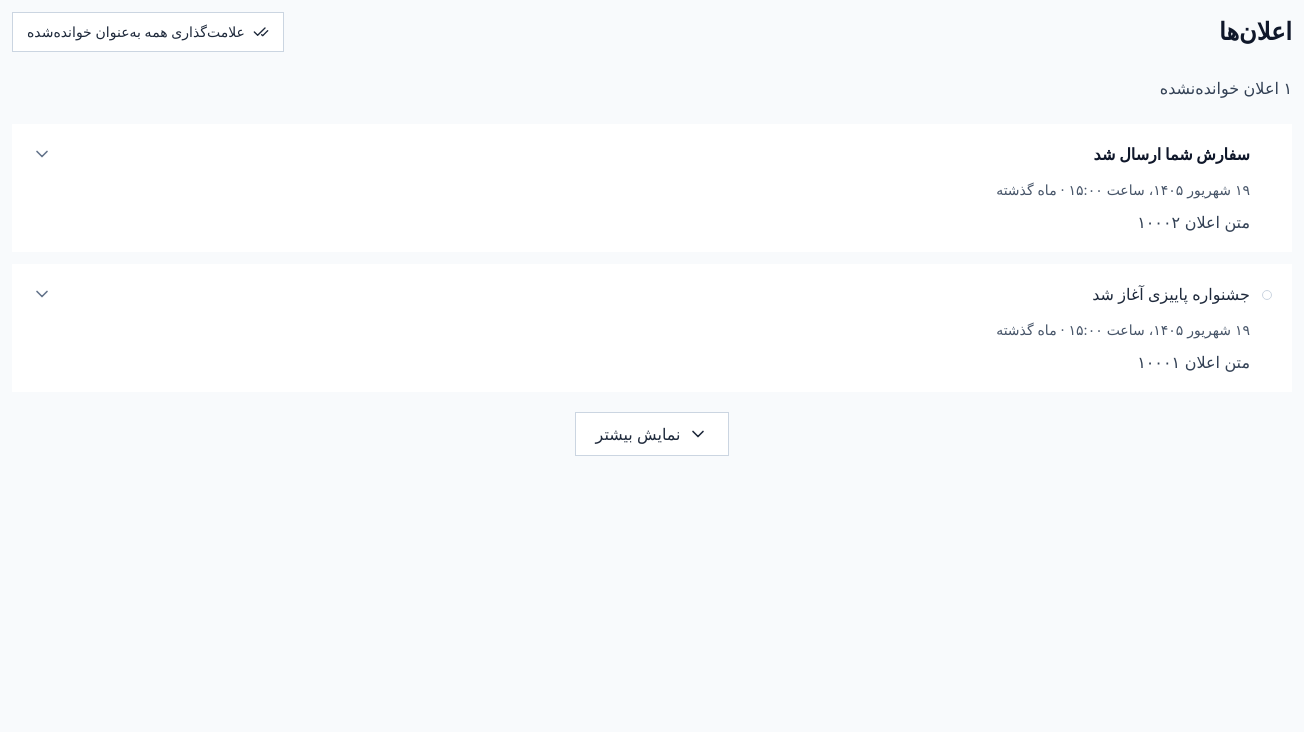
Test case: a read written while the inbox is being read › «علامت‌گذاری همه» while «نمایش بیشتر»’s page is on its way: the rows it marked stay read
Expected: the text "۱ اعلان خوانده‌نشده" is shown, [1160, 78, 1292, 98]
What coordinates should you click on to do the following:
click the button "نمایش بیشتر"
I would click on:
 (652, 434)
Its box is [574, 412, 729, 456].
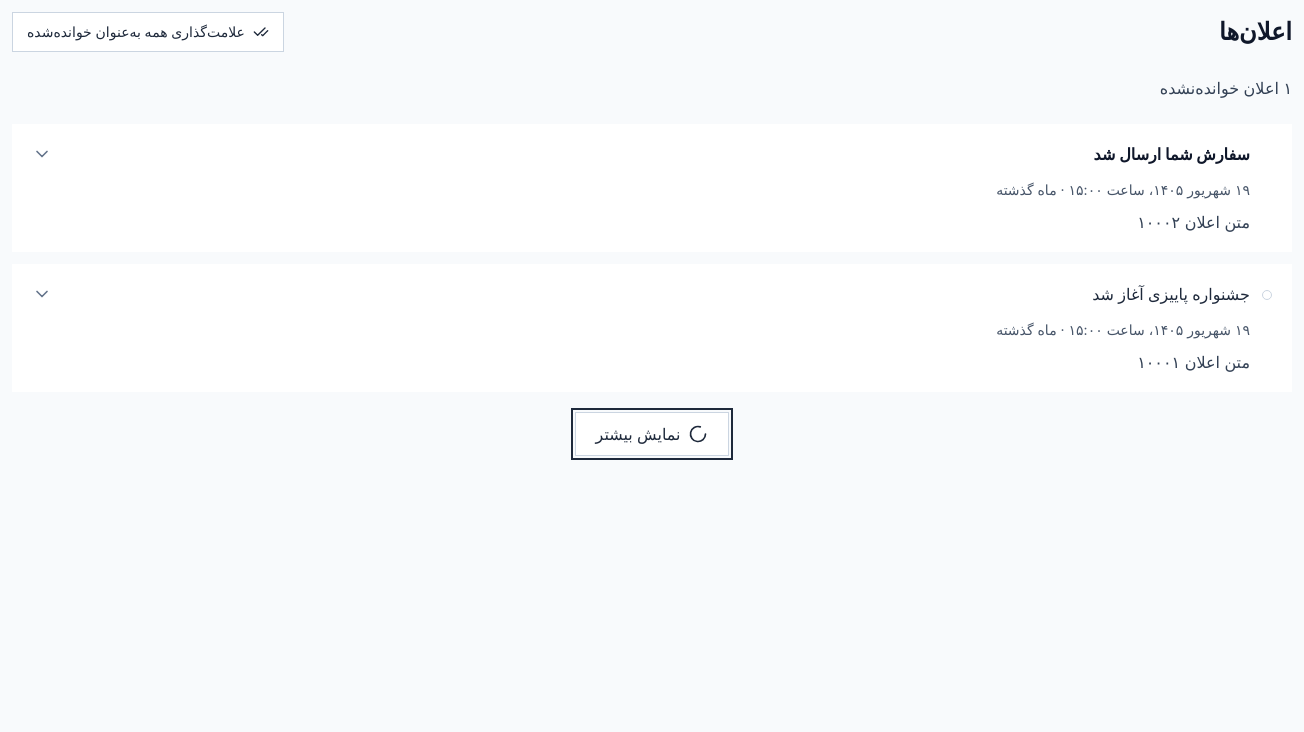
What coordinates should you click on to do the following:
click the button "علامت‌گذاری همه به‌عنوان خوانده‌شده"
I would click on:
 (148, 32)
Its box is [12, 12, 284, 52].
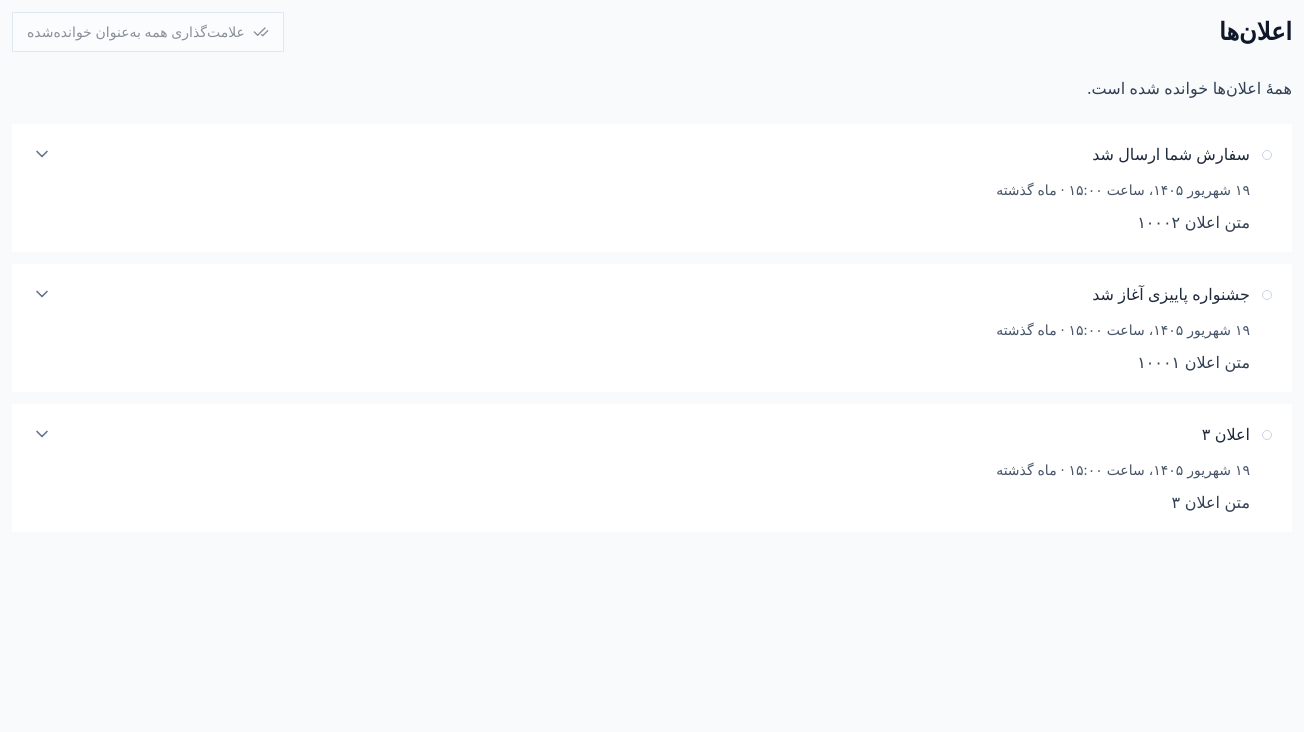
Result: the text "همهٔ اعلان‌ها خوانده شده است." is shown at [1087, 78, 1292, 98]
Result: the button "اعلان ۳" is shown at [12, 404, 1292, 460]
